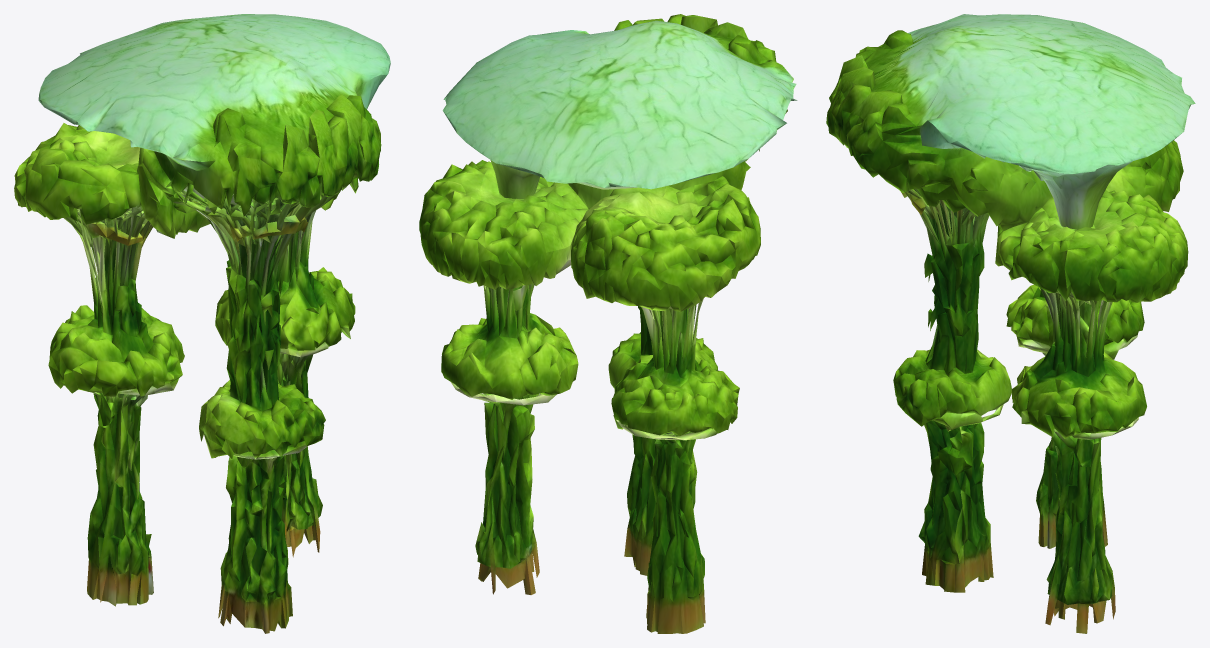
File: supertree-grove.glb
The picture shows the model from 3 angles, left to right: view 1: azimuth 30°, elevation 25°; view 2: azimuth 150°, elevation 25°; view 3: azimuth 270°, elevation 25°; orthographic projection. The views are drawn at different scales.
Visible parts, largest first — view 1: model; view 2: model; view 3: model.
Boxes of the visible parts, x1,y1,x2,y2 form: model: (14,14,390,633); model: (419,14,797,633); model: (826,14,1195,633).
Bounding box in the file's own units: 9.58 × 15.58 × 9.6.
1 material, 1 textured.
